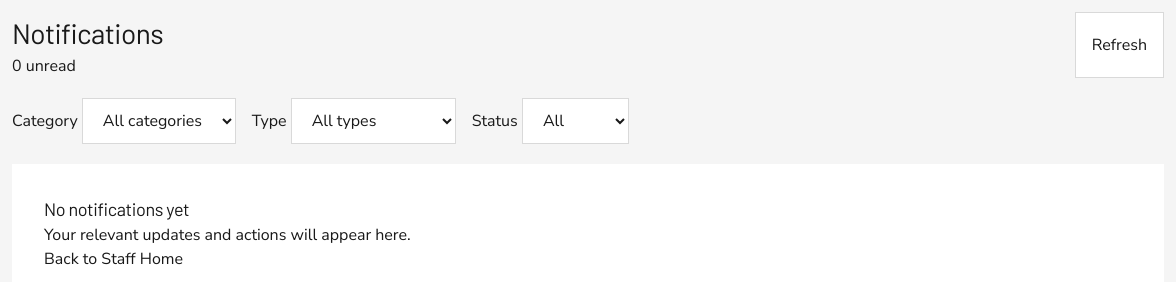
empty, loading and server error states are distinct
This screenshot has width=1176, height=282.
Later steps or results of the test are not shown.
Click the button "Refresh": [1119, 45] box 1075,12 -> 1164,78
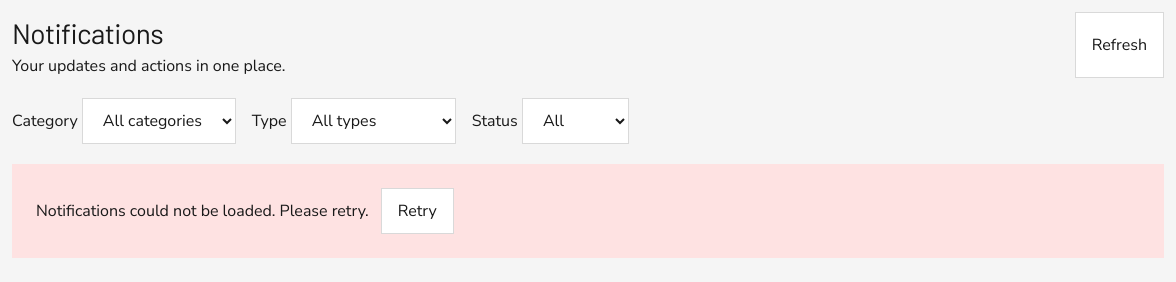
Expected: the message "Notifications could not be loaded. Please retry. Retry" is shown, 12,164 -> 1164,258
Expected: the button "Retry" is shown, 381,188 -> 454,234
